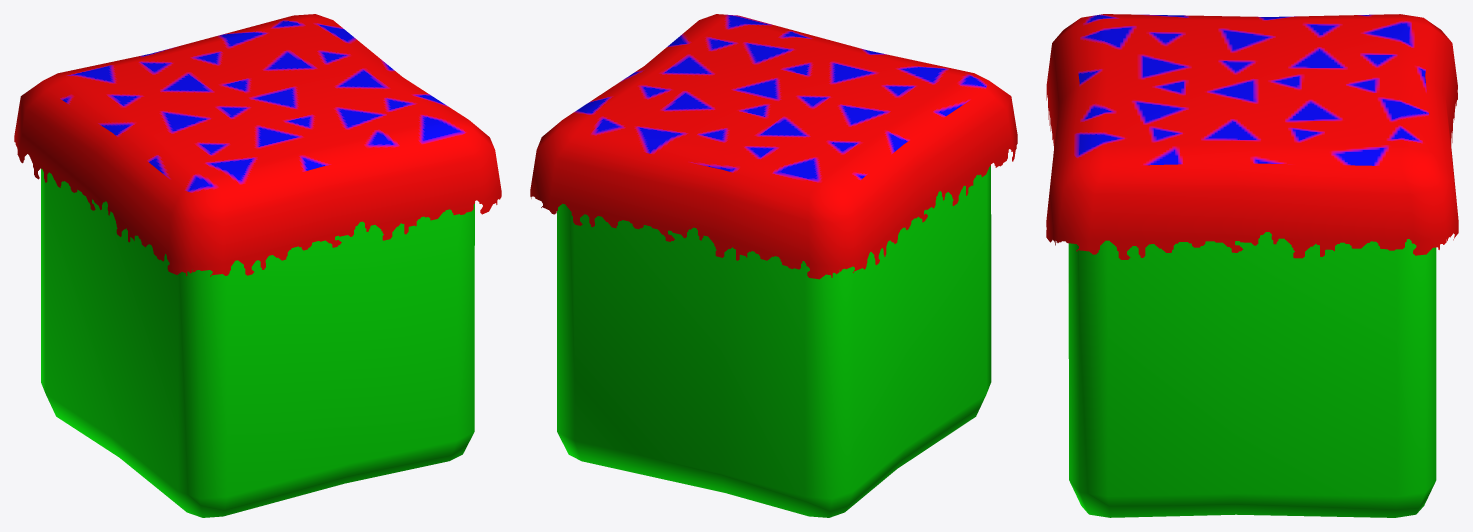
File: Ground.fbx
The picture shows the model from 3 angles, left to right: view 1: azimuth 30°, elevation 25°; view 2: azimuth 150°, elevation 25°; view 3: azimuth 270°, elevation 25°; orthographic projection. The views are drawn at different scales.
Visible parts, largest first — view 1: Cube.001; view 2: Cube.001; view 3: Cube.001.
Part boxes in pixels (left/top/right/bottom): Cube.001: left=14, top=14, right=501, bottom=517; Cube.001: left=530, top=14, right=1017, bottom=517; Cube.001: left=1046, top=14, right=1458, bottom=517.
Size of the model in its own units: 100 by 100 by 100.
Materials: 1 (1 with a texture image).
